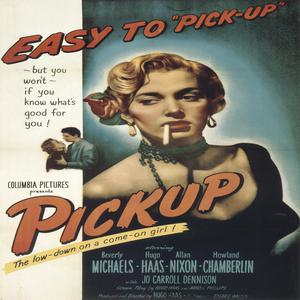cigarette: (161, 121, 169, 150)
